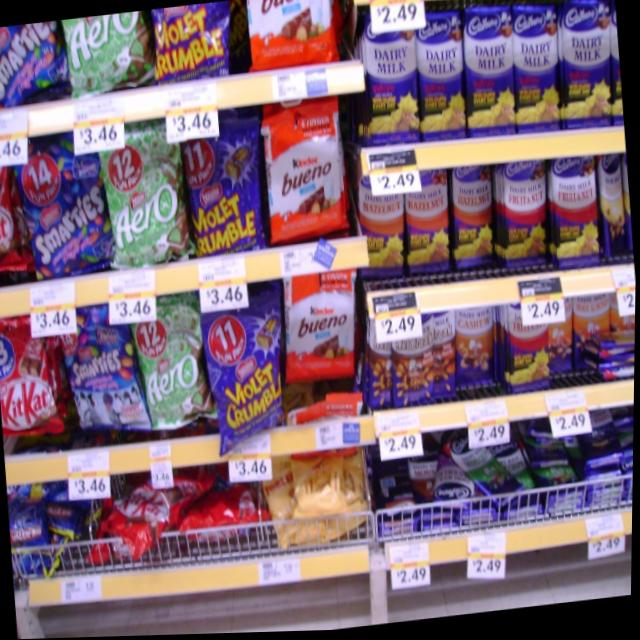q145: (406, 0, 473, 137), (458, 0, 522, 136), (557, 0, 619, 136), (506, 5, 564, 123), (363, 33, 420, 141)
q280: (0, 315, 68, 447)
